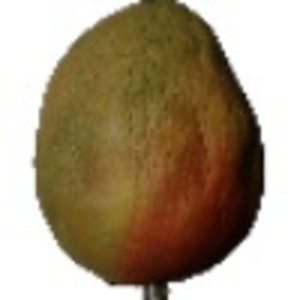mamão: (21, 1, 269, 289)
